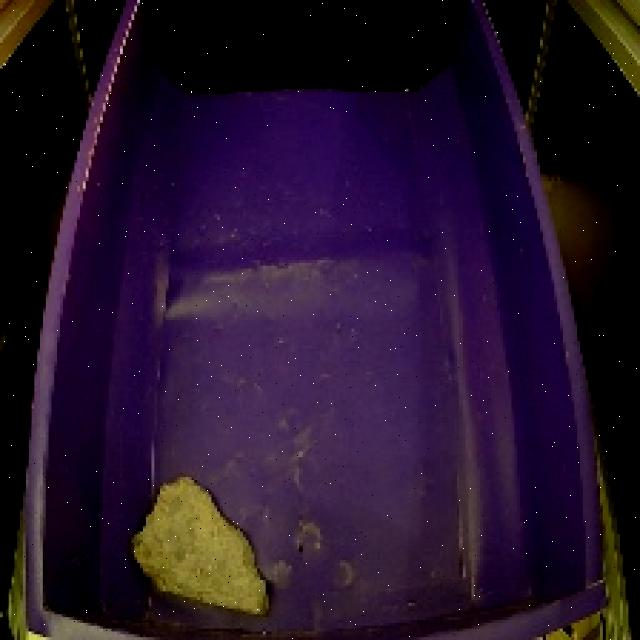china: (124, 471, 275, 620)
